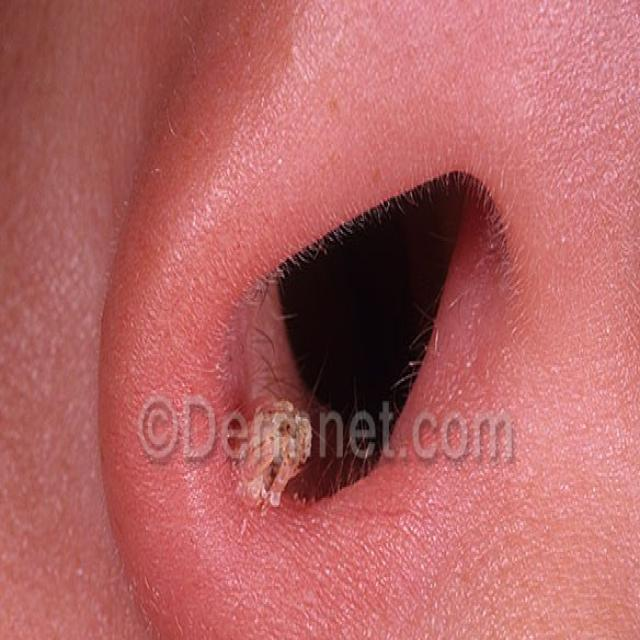Warts: (220, 362, 315, 517)
